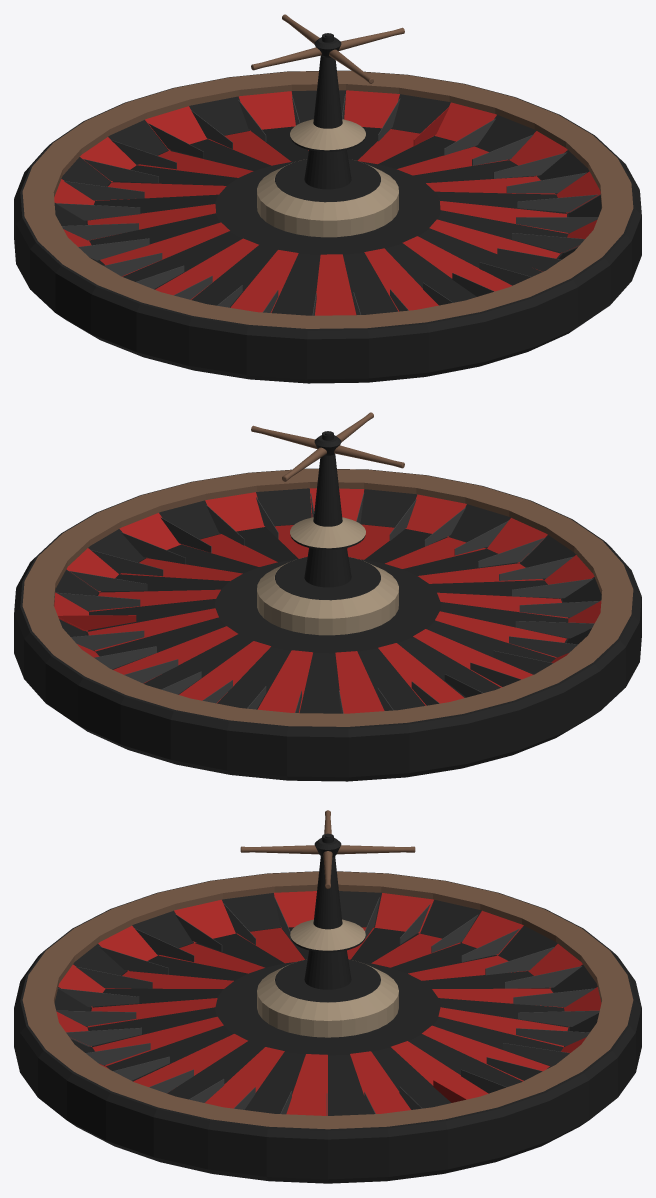
The model's file is Russia.fbx.
The picture shows the model from 3 angles, top to bottom: view 1: azimuth 30°, elevation 25°; view 2: azimuth 150°, elevation 25°; view 3: azimuth 270°, elevation 25°; orthographic projection.
Parts seen in each view (by area): view 1: Cylinder, Cylinder.004, Cylinder.008, Cylinder.005, Cylinder.006, Cylinder.007, Cylinder.002, Cylinder.026, Cylinder.021, Cylinder.023, Cylinder.022, Cylinder.027 (+12 smaller); view 2: Cylinder, Cylinder.004, Cylinder.008, Cylinder.005, Cylinder.006, Cylinder.007, Cylinder.002, Cylinder.033, Cylinder.013, Cylinder.032, Cylinder.015, Cylinder.012 (+13 smaller); view 3: Cylinder, Cylinder.004, Cylinder.008, Cylinder.005, Cylinder.006, Cylinder.007, Cylinder.001, Cylinder.009, Cylinder.028, Cylinder.018, Cylinder.037, Cylinder.019 (+12 smaller).
Boxes of the visible parts, x1,y1,x2,y2 form: Cylinder: (14, 33, 641, 340); Cylinder.004: (54, 90, 600, 315); Cylinder.008: (22, 71, 633, 328); Cylinder.005: (14, 193, 641, 383); Cylinder.006: (257, 163, 398, 237); Cylinder.007: (290, 119, 365, 150); Cylinder.002: (251, 27, 404, 70); Cylinder.026: (56, 203, 140, 220); Cylinder.021: (516, 217, 598, 232); Cylinder.023: (517, 194, 600, 212); Cylinder.022: (506, 172, 586, 193); Cylinder.027: (64, 181, 144, 200); Cylinder: (14, 431, 641, 738); Cylinder.004: (54, 488, 601, 713); Cylinder.008: (22, 469, 633, 726); Cylinder.005: (14, 591, 641, 781); Cylinder.006: (257, 561, 398, 635); Cylinder.007: (290, 517, 365, 548); Cylinder.002: (251, 425, 404, 468); Cylinder.033: (515, 621, 594, 638); Cylinder.013: (56, 592, 140, 610); Cylinder.032: (512, 578, 593, 598); Cylinder.015: (58, 615, 136, 630); Cylinder.012: (67, 570, 147, 591); Cylinder: (14, 833, 641, 1140); Cylinder.004: (56, 891, 601, 1115); Cylinder.008: (22, 871, 633, 1129); Cylinder.005: (14, 1007, 641, 1183); Cylinder.006: (257, 964, 398, 1037); Cylinder.007: (290, 919, 365, 950); Cylinder.001: (240, 845, 415, 854); Cylinder.009: (518, 1010, 599, 1026); Cylinder.028: (513, 988, 595, 1007); Cylinder.018: (66, 1027, 141, 1046); Cylinder.037: (58, 988, 139, 1006); Cylinder.019: (56, 1010, 136, 1026).
Bounding box in the file's own units: 545 × 211 × 545.
